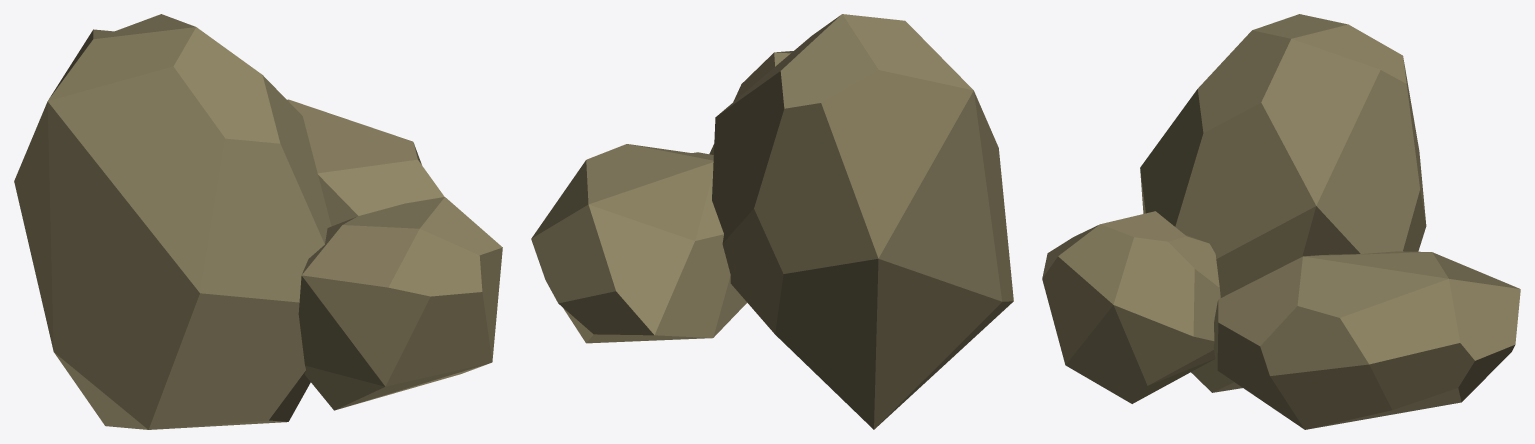
The model's file is Камень 4.fbx.
3 views of the same model, side by side, from view 1: azimuth 30°, elevation 25°; view 2: azimuth 150°, elevation 25°; view 3: azimuth 270°, elevation 25° (orthographic). The views are drawn at different scales.
Parts seen in each view (by area): view 1: Icosphere.007, Icosphere.006, Icosphere.005; view 2: Icosphere.007, Icosphere.005, Icosphere.006; view 3: Icosphere.007, Icosphere.005, Icosphere.006.
Boxes of the visible parts, x1,y1,x2,y2 form: Icosphere.007: (14,14,331,429); Icosphere.006: (298,197,502,410); Icosphere.005: (287,99,444,226); Icosphere.007: (712,14,1013,429); Icosphere.005: (531,144,746,343); Icosphere.006: (709,51,793,154); Icosphere.007: (1140,14,1426,392); Icosphere.005: (1213,251,1520,429); Icosphere.006: (1042,211,1220,403).
Bounding box in the file's own units: 264 × 249 × 299.
